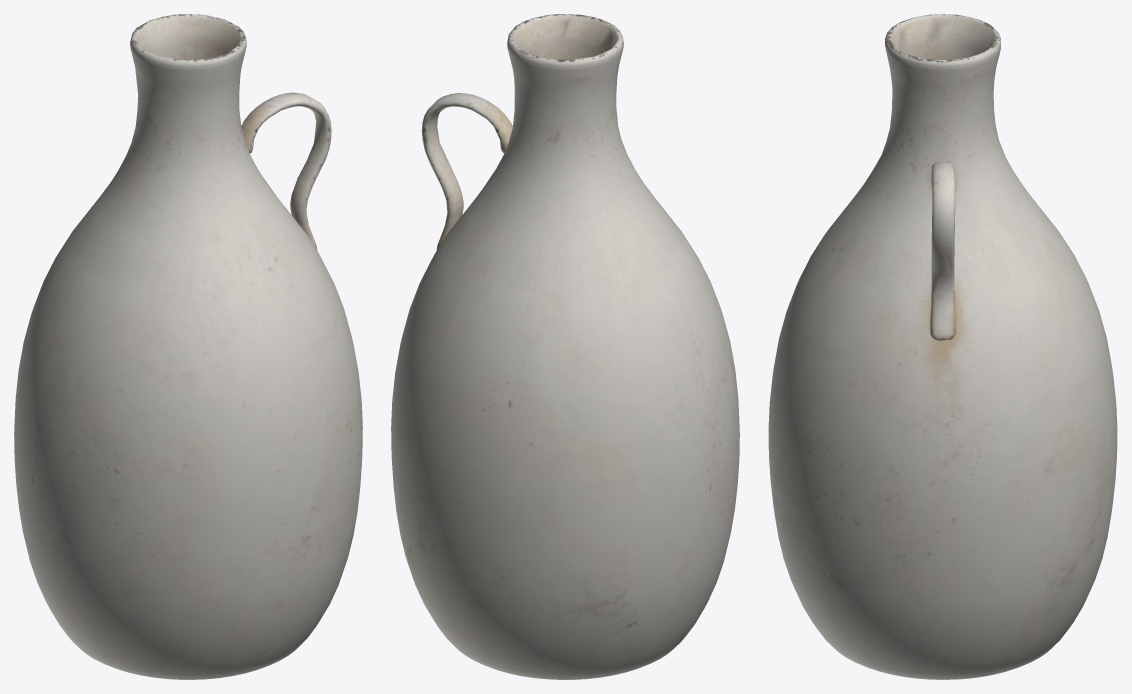
The model's file is ceramic_vase_04.glb.
3 views of the same model, side by side, from view 1: azimuth 30°, elevation 25°; view 2: azimuth 150°, elevation 25°; view 3: azimuth 270°, elevation 25° (orthographic).
Visible parts, largest first — view 1: ceramic_vase_04; view 2: ceramic_vase_04; view 3: ceramic_vase_04.
Boxes of the visible parts, x1,y1,x2,y2 form: ceramic_vase_04: [14, 14, 362, 679]; ceramic_vase_04: [391, 14, 739, 679]; ceramic_vase_04: [768, 14, 1117, 679].
Size of the model in its own units: 0.1811 by 0.3419 by 0.1811.
Materials: 1 (1 with a texture image).
